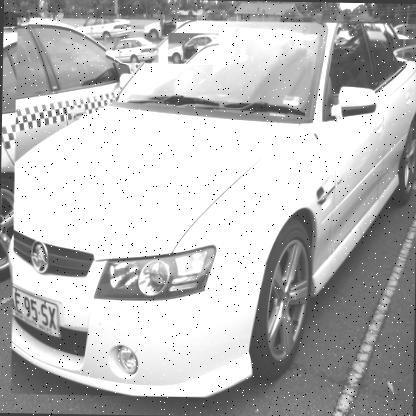Car: (11, 17, 415, 402), (0, 11, 198, 287), (168, 32, 220, 64), (106, 36, 158, 64), (393, 39, 415, 63)
